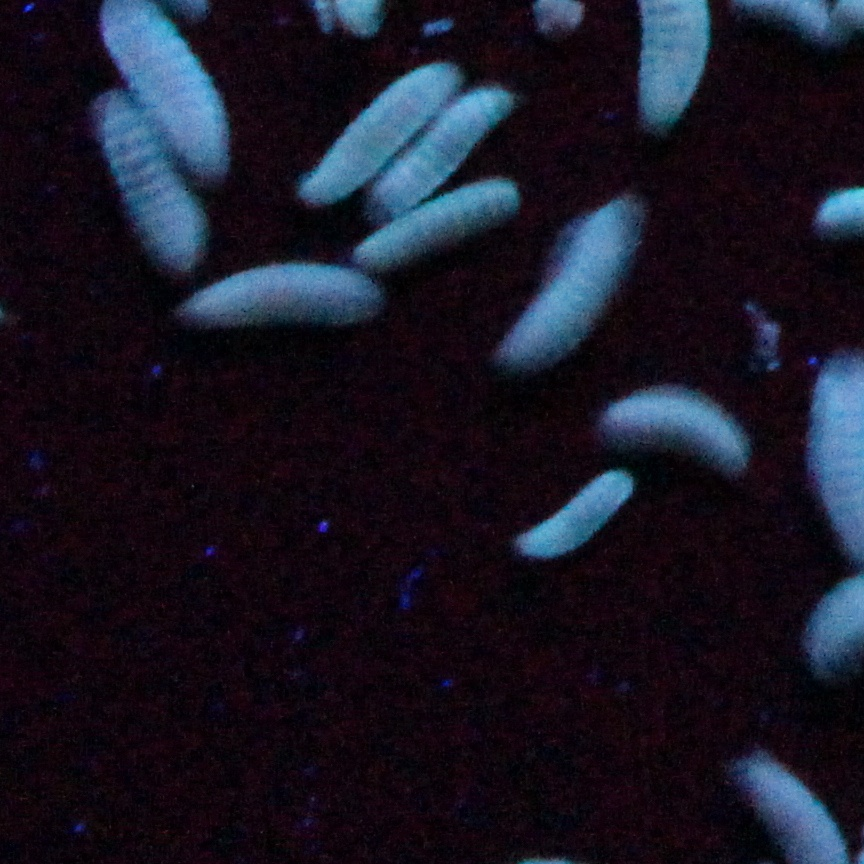larve: (512, 199, 644, 368), (89, 99, 201, 264), (322, 56, 446, 201), (354, 174, 522, 276), (181, 256, 387, 336), (391, 84, 516, 205), (609, 389, 750, 472), (512, 476, 630, 560)
